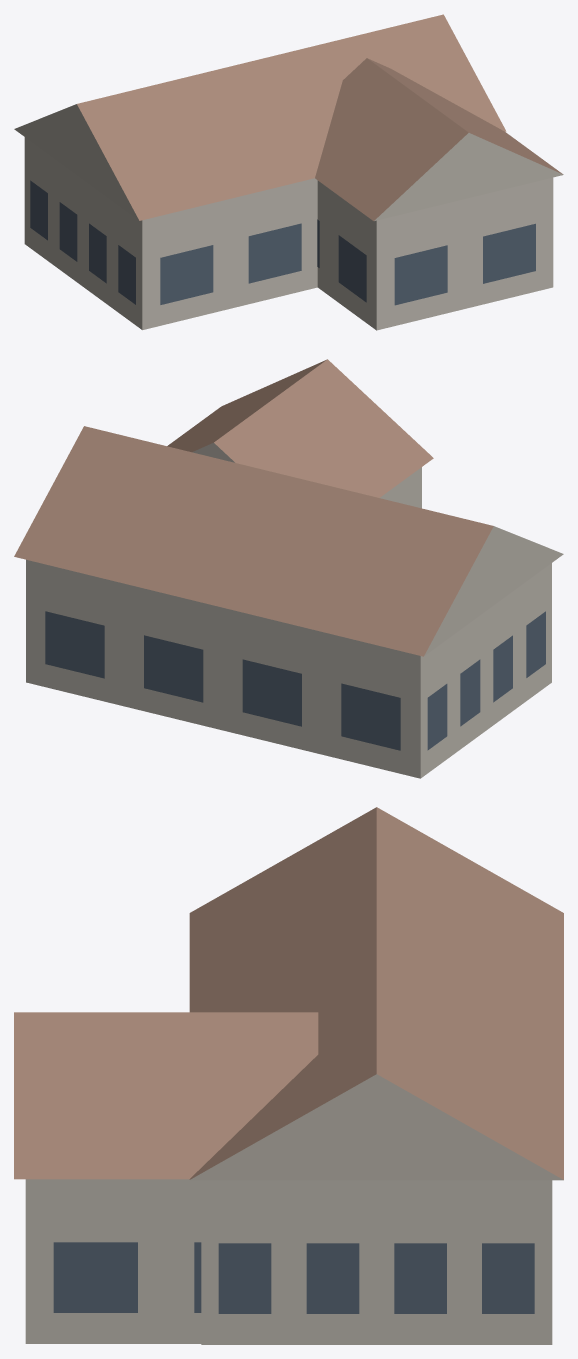
The model's file is house_03_l_shaped_villa.glb.
3 views of the same model, one above another, from view 1: azimuth 30°, elevation 25°; view 2: azimuth 150°, elevation 25°; view 3: azimuth 270°, elevation 25° (orthographic). The views are drawn at different scales.
Parts seen in each view (by area): view 1: house_03_l_shaped_villa; view 2: house_03_l_shaped_villa; view 3: house_03_l_shaped_villa.
Boxes of the visible parts, x1=… form: house_03_l_shaped_villa: x1=14, y1=14, x2=563, y2=330; house_03_l_shaped_villa: x1=14, y1=359, x2=563, y2=778; house_03_l_shaped_villa: x1=14, y1=807, x2=563, y2=1344.
Bounding box in the file's own units: 13.5 × 6.5 × 11.75.
